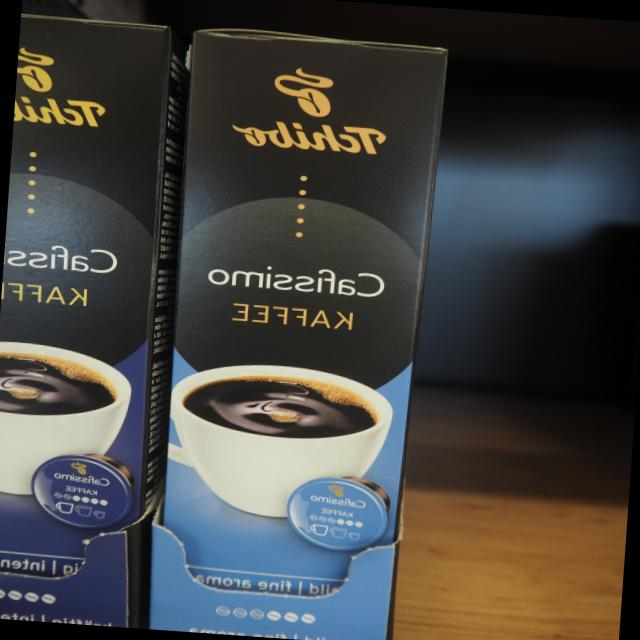Simo Kaffee Kraft: (0, 11, 179, 621)
Simo Kaffee Mild: (142, 22, 453, 640)
